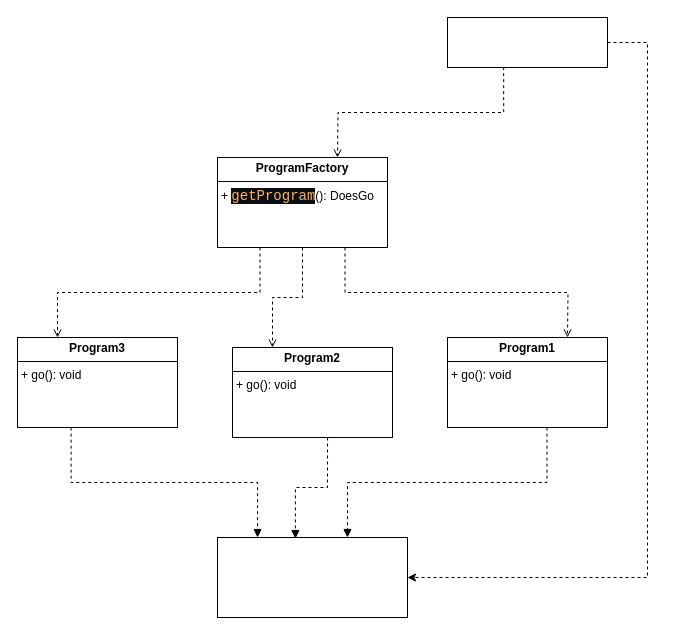
The diagram is 673 pixels wide and 635 high, and some of its shapes have lost their labels. Here are the shapes that lost their labels. From the top down, the box of each, then its label:
(446, 16, 608, 68): Client + main()
(216, 536, 408, 618): <<Interface>> DoesGo + go(): void
